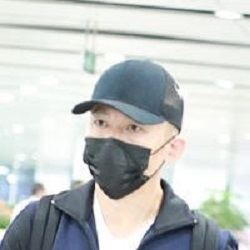mask: (81, 133, 172, 202)
